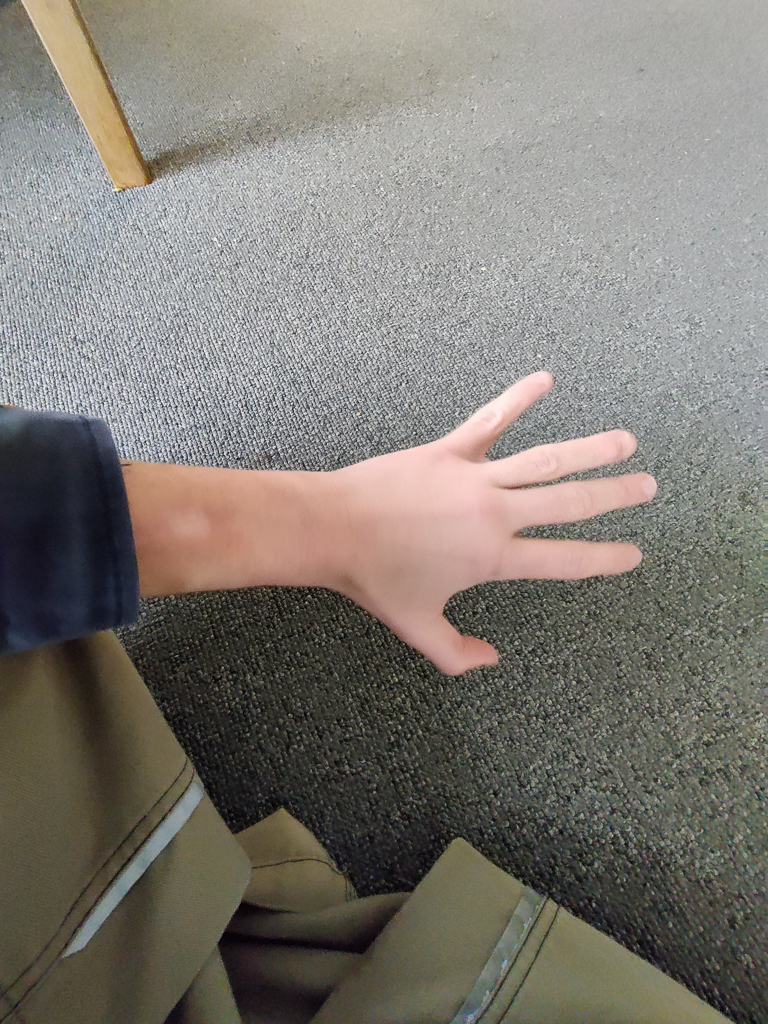Humanoid: (0, 307, 740, 1024)
